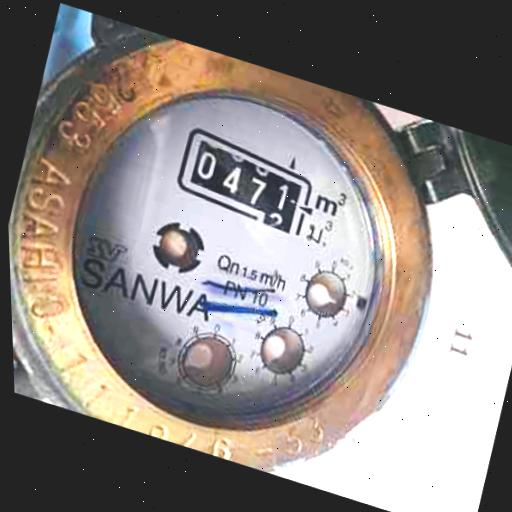0: (187, 138, 228, 192)
1: (260, 172, 304, 233)
4: (211, 149, 254, 203)
7: (237, 161, 278, 214)
border_water_meter_number: (166, 121, 325, 241)
